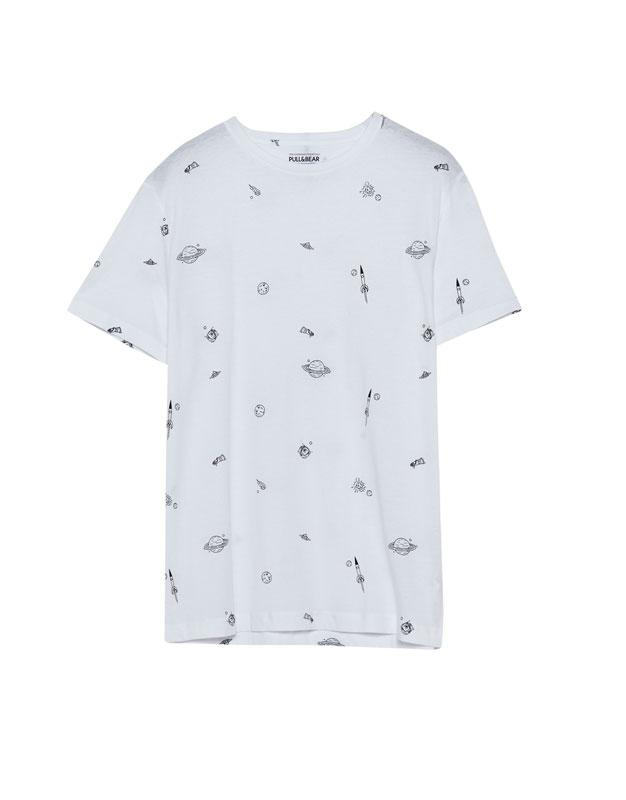teeshirt: (61, 107, 546, 686)
